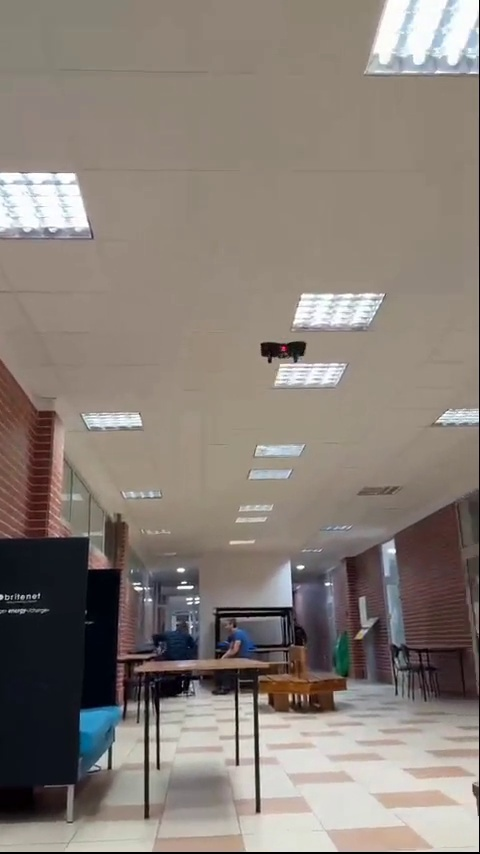drone: (260, 337, 307, 363)
no vest: (155, 616, 197, 661), (213, 616, 249, 661)
